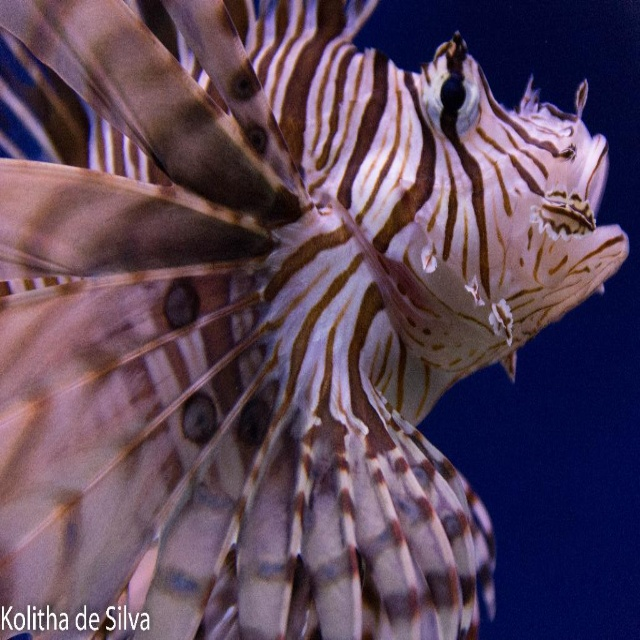Fish: (0, 0, 629, 639)
